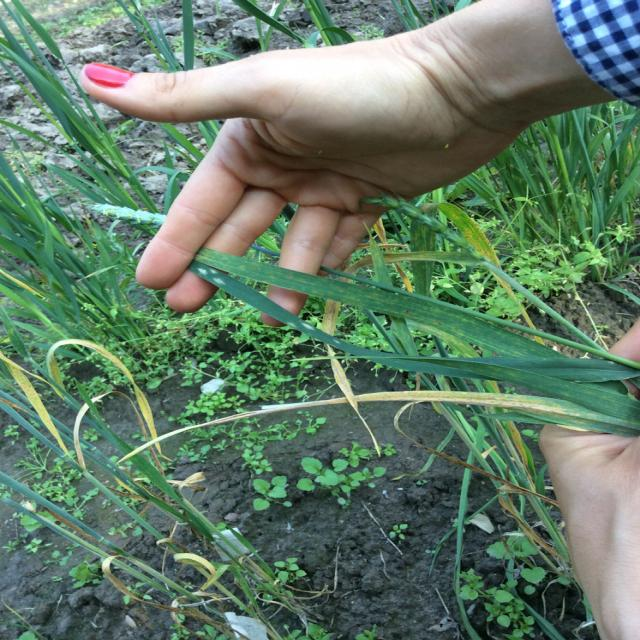wheat-powdery-mildew: (188, 262, 398, 359)
